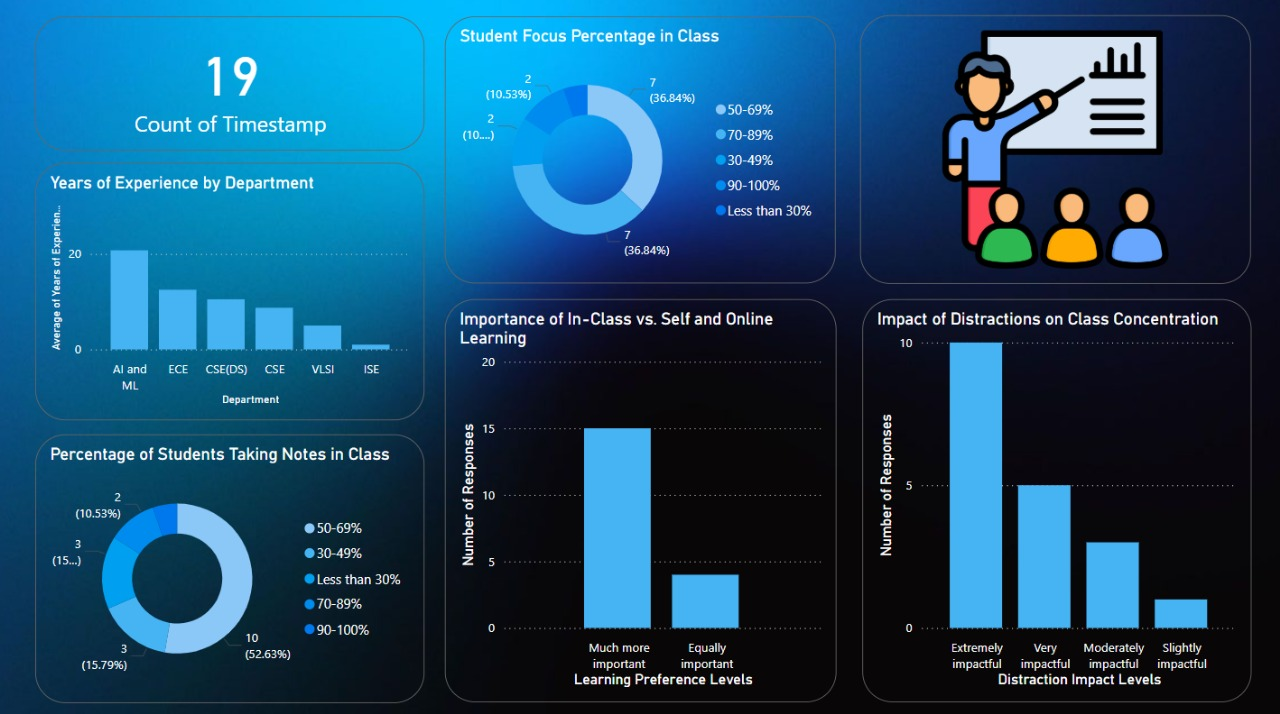

This screenshot's page, from the dashboard's own definition file:
{"tool":"powerbi","page":{"name":"Page 2","canvas":[1280,720],"ordinal":2},"visuals":[{"type":"donutChart","title":"Percentage of Students Taking Notes in Class","fields":{"Category":["FacultyData.Percentage_of_StudentsTakingNotes"],"Y":["CountNonNull(FacultyData.Percentage_of_StudentsTakingNotes)"]},"box":[36.2,436.4,389,269.3],"z":0},{"type":"donutChart","title":"Student Focus Percentage in Class","fields":{"Y":["CountNonNull(FacultyData.Percentage_of_StudentsStayingFocused)"],"Category":["FacultyData.Percentage_of_StudentsStayingFocused"]},"box":[445.1,437.6,390.2,268.1],"z":1000},{"type":"clusteredColumnChart","title":"Impact of Distractions on Class Concentration","fields":{"Y":["CountNonNull(FacultyData.Impact_of_Distractions_on_Concentration)"],"Category":["FacultyData.Impact_of_Distractions_on_Concentration"]},"box":[446.3,17.5,389,403.9],"z":2000},{"type":"clusteredColumnChart","title":"Importance of In-Class vs. Self and Online Learning","fields":{"Category":["FacultyData.InClassVsSelfOnline_LearningImportance"],"Y":["CountNonNull(FacultyData.InClassVsSelfOnline_LearningImportance)"]},"box":[859,436.4,391.5,269.3],"z":3000},{"type":"ribbonChart","title":"Importance of Class Participation","fields":{"Category":["FacultyData.Importance_of_ClassParticipation"],"Y":["Avg(FacultyData.Importance_of_ClassParticipation)"]},"box":[859,17.5,390.2,403.9],"z":4000}]}

Visuals, with their boxes in screenshot pixels (x1, y1, x2, y2), scaled from the page's 1280x720 canvas onto the 1280x714 screenshot:
"Percentage of Students Taking Notes in Class" donutChart: 36,433,425,700
"Student Focus Percentage in Class" donutChart: 445,434,835,700
"Impact of Distractions on Class Concentration" clusteredColumnChart: 446,17,835,418
"Importance of In-Class vs. Self and Online Learning" clusteredColumnChart: 859,433,1250,700
"Importance of Class Participation" ribbonChart: 859,17,1249,418
